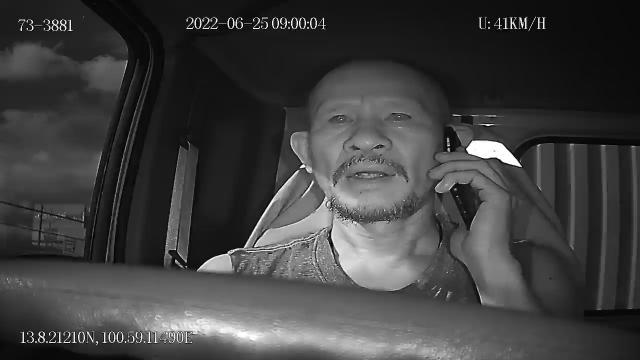PhoneUse: (444, 124, 474, 234)
SafeDriving: (378, 100, 422, 130), (321, 102, 362, 134)
